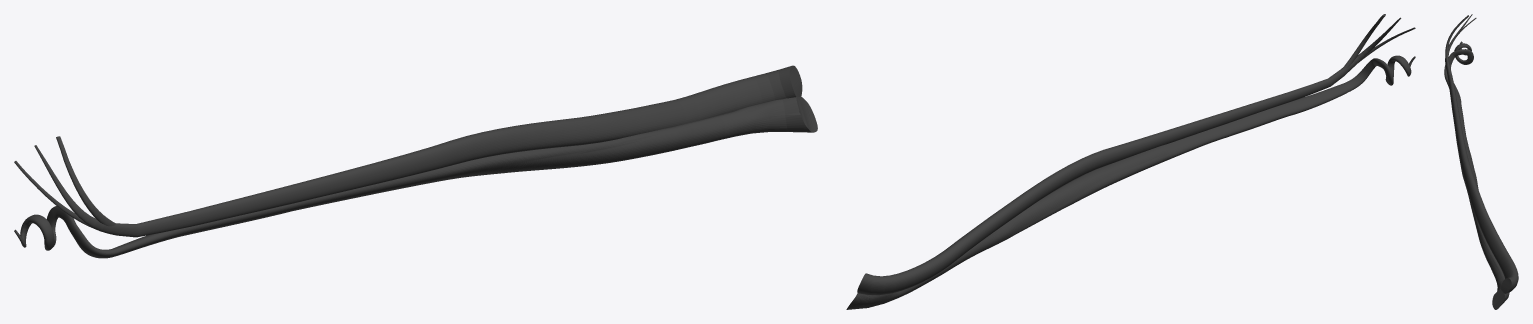
Rendered from N_8_vestibulocochlear.glb.
3 views of the same model, side by side, from view 1: azimuth 30°, elevation 25°; view 2: azimuth 210°, elevation 25°; view 3: azimuth 270°, elevation 25° (orthographic). The views are drawn at different scales.
Visible parts, largest first — view 1: N_8_vestibulocochlear; view 2: N_8_vestibulocochlear; view 3: N_8_vestibulocochlear.
Part boxes in pixels (bbox=[...]): N_8_vestibulocochlear: bbox=[14, 65, 817, 258]; N_8_vestibulocochlear: bbox=[846, 14, 1415, 309]; N_8_vestibulocochlear: bbox=[1444, 14, 1518, 309].
Bounding box in the file's own units: 0.00679 × 0.00159 × 0.00104.
1 material, 1 textured.
